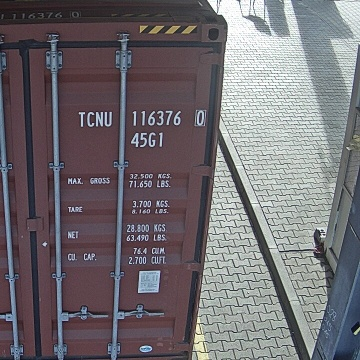serial_id: (78, 110, 204, 127)
